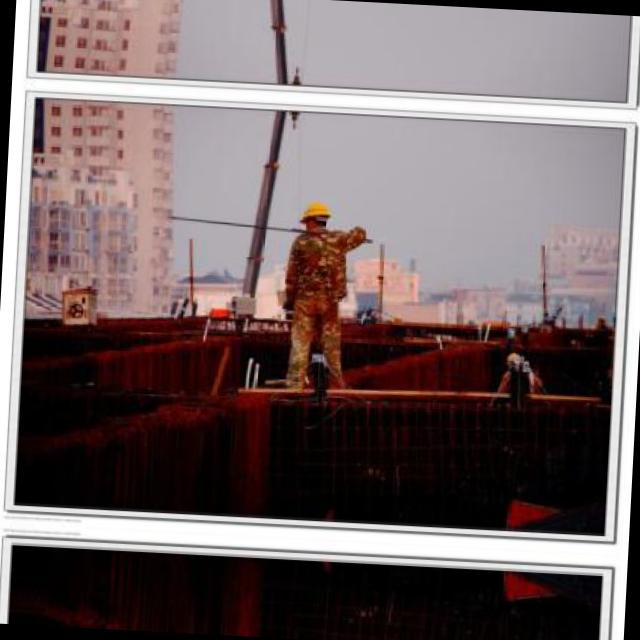helmet: (292, 198, 334, 232)
